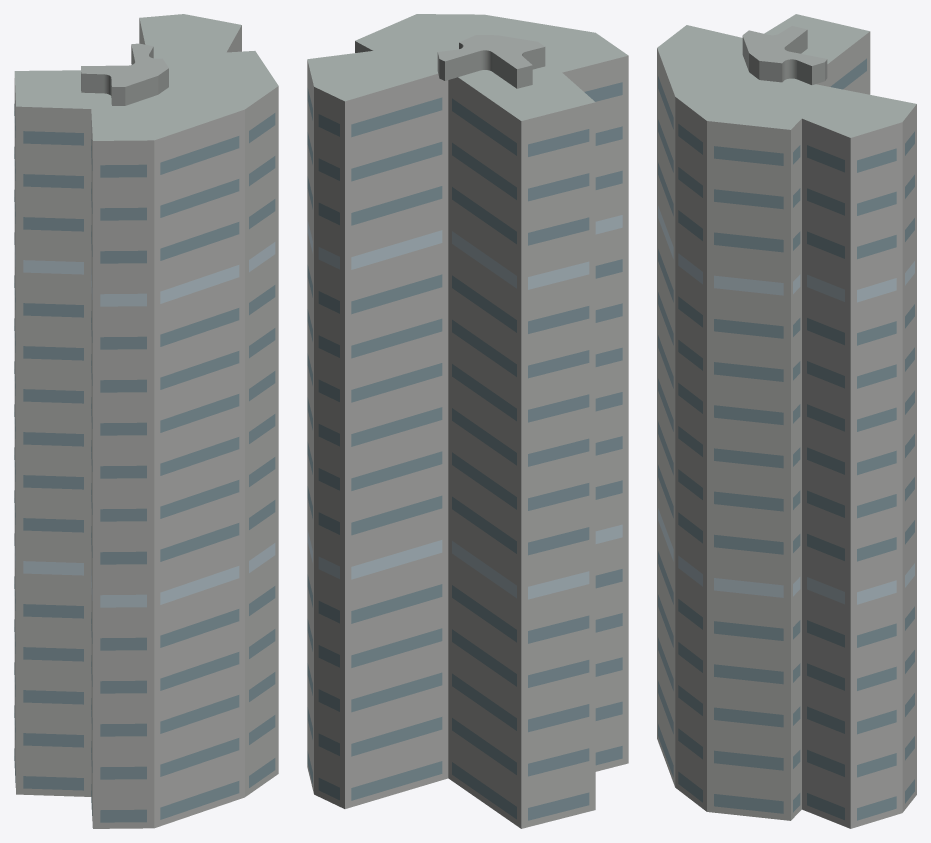
The model's file is fallback-jamsil-parkrio-314.glb.
3 renders of one model, left to right at view 1: azimuth 30°, elevation 25°; view 2: azimuth 150°, elevation 25°; view 3: azimuth 270°, elevation 25°, orthographic. The views are drawn at different scales.
Visible parts, largest first — view 1: fallback-jamsil-parkrio-314; view 2: fallback-jamsil-parkrio-314; view 3: fallback-jamsil-parkrio-314.
Part boxes in pixels (<box>): fallback-jamsil-parkrio-314: <box>14,14,278,828</box>; fallback-jamsil-parkrio-314: <box>307,14,628,828</box>; fallback-jamsil-parkrio-314: <box>657,14,916,828</box>.
Size of the model in its own units: 33.33 by 89 by 29.51.
